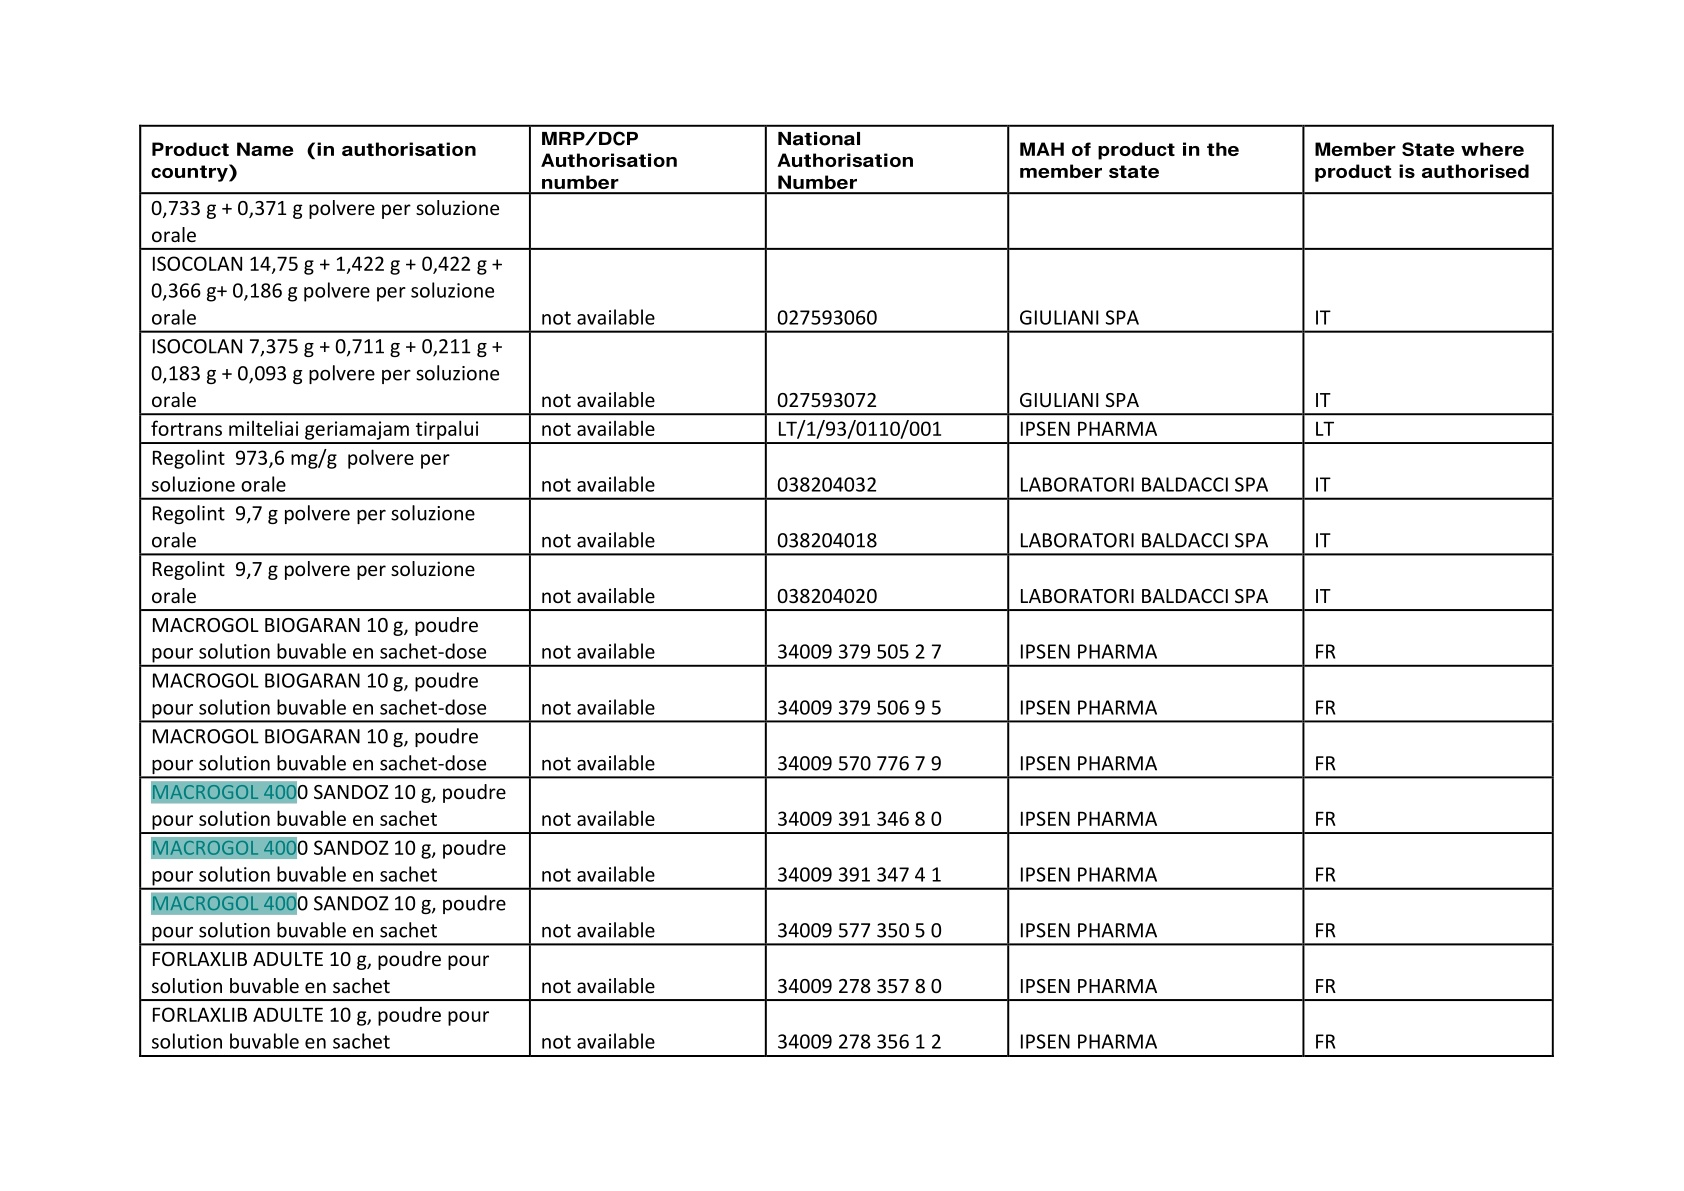full_lined: (139, 124, 1554, 1057)
